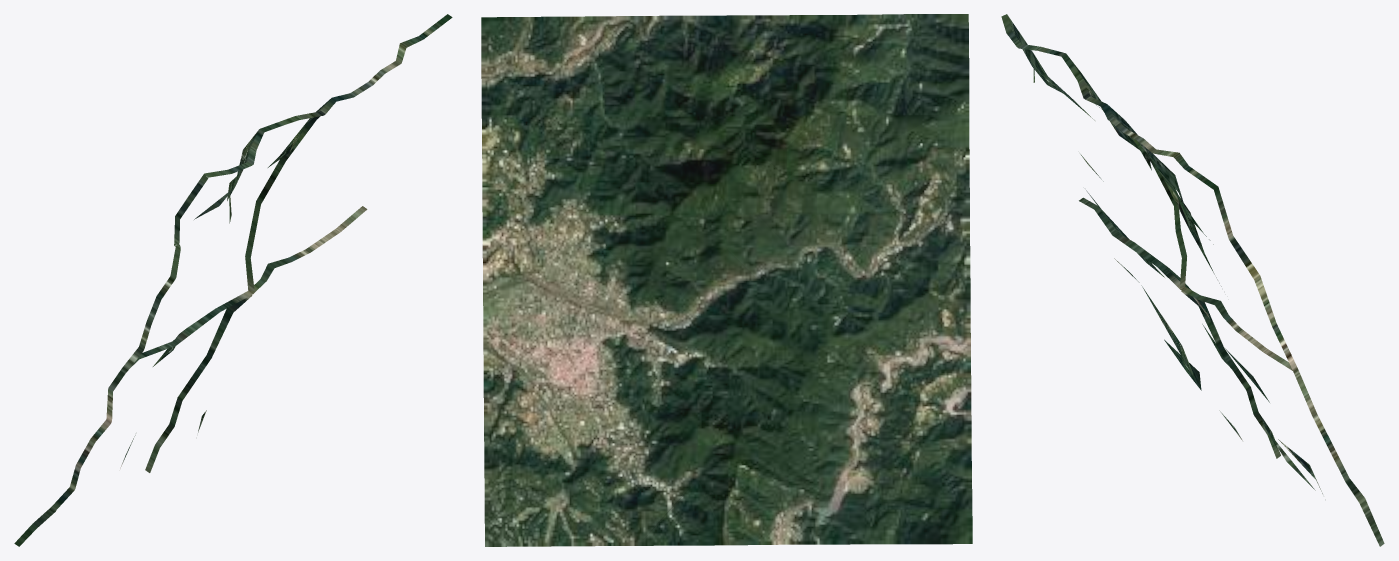
The picture shows the model from 3 angles, left to right: view 1: azimuth 30°, elevation 25°; view 2: azimuth 150°, elevation 25°; view 3: azimuth 270°, elevation 25°; orthographic projection. The views are drawn at different scales.
Size of the model in its own units: 20306 by 18426 by 15602.
Materials: 1 (1 with a texture image).
